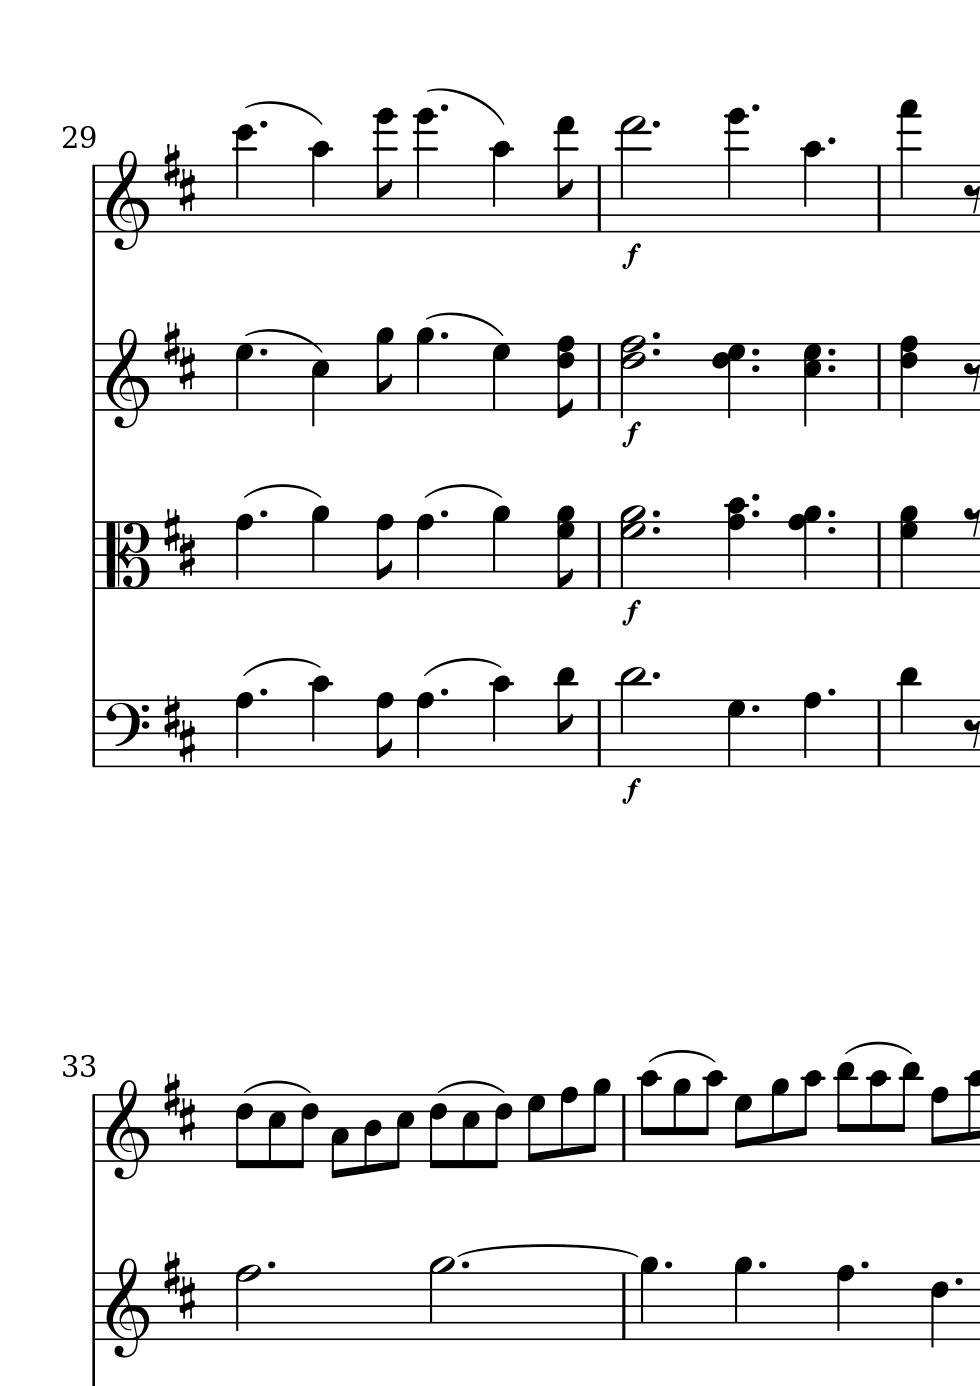2: (59, 124, 78, 151)
2_11: (616, 666, 646, 770)
2_13: (617, 115, 648, 235)
2_6_8: (618, 333, 645, 420)
2_7_9: (618, 504, 647, 591)
2_8: (233, 1263, 260, 1343)
2_9: (427, 1256, 454, 1343)
3: (60, 1052, 78, 1080), (78, 1053, 97, 1080)
4_10: (487, 673, 513, 769), (307, 138, 332, 235), (488, 139, 513, 234), (799, 140, 823, 234), (307, 674, 331, 769)
4_11: (895, 665, 920, 770)
4_12: (232, 124, 257, 234)
4_13: (412, 108, 438, 234)
4_14: (725, 104, 747, 235)
4_15: (896, 99, 923, 233)
4_5: (308, 343, 330, 428)
4_5_7: (801, 341, 822, 428)
4_6: (927, 1270, 950, 1350)
4_6_8: (899, 335, 918, 421)
4_7: (490, 343, 512, 413), (233, 343, 255, 413), (725, 698, 747, 768)
4_7_9: (898, 504, 918, 590)
4_8: (800, 690, 824, 770), (833, 1263, 856, 1343), (413, 512, 436, 591), (231, 690, 255, 769), (231, 512, 253, 591), (414, 691, 436, 770)
4_8_10: (724, 495, 748, 590)
4_8_9: (787, 504, 823, 592)
4_9: (413, 326, 436, 413), (308, 503, 330, 591), (489, 503, 511, 591), (731, 1255, 753, 1341), (638, 1255, 659, 1343)
8_10: (698, 1069, 727, 1164), (797, 1069, 823, 1164), (636, 1070, 661, 1164), (867, 1068, 890, 1162), (965, 1068, 979, 1166)
8_11: (894, 1062, 921, 1163), (833, 1062, 857, 1163), (554, 666, 577, 769)
8_13: (553, 117, 577, 233)
8_14: (372, 109, 397, 236)
8_3: (328, 1093, 349, 1180)
8_4: (361, 1093, 381, 1174)
8_5: (391, 1092, 415, 1170), (459, 1092, 482, 1169), (266, 1092, 287, 1169)
8_6: (488, 1093, 513, 1170), (295, 1093, 319, 1170), (427, 1093, 447, 1170), (234, 1094, 253, 1170)
8_6_7: (711, 341, 747, 419)
8_6_8: (555, 333, 576, 420)
8_7: (526, 1092, 546, 1163), (732, 1092, 752, 1163)
8_7_9: (555, 505, 577, 592)
8_8: (557, 1085, 579, 1163), (928, 1085, 950, 1163), (373, 512, 395, 592), (373, 691, 395, 770)
8_9: (585, 1077, 611, 1164), (768, 1078, 789, 1164), (670, 1078, 692, 1163), (374, 327, 395, 413)
9: (78, 123, 97, 151)
Cclef: (103, 519, 150, 590)
D_S: (161, 505, 198, 578), (161, 1247, 198, 1320), (161, 318, 197, 391), (161, 692, 198, 764), (161, 1071, 197, 1143), (162, 140, 197, 213)
Fclef: (103, 698, 148, 770)
Gclef: (105, 148, 148, 251), (106, 1255, 148, 1359), (105, 326, 147, 429), (106, 1075, 147, 1180)
Rests8: (960, 717, 980, 750), (961, 359, 980, 393), (961, 505, 980, 539), (960, 182, 980, 214)
Single_barline: (871, 522, 889, 587), (870, 700, 888, 766), (615, 1274, 633, 1338), (85, 522, 102, 590), (871, 343, 888, 409), (86, 343, 102, 411), (86, 165, 102, 233), (86, 700, 102, 767), (591, 522, 607, 587), (871, 166, 887, 230), (591, 701, 607, 765), (86, 1273, 101, 1340), (591, 344, 606, 410), (86, 1095, 101, 1162), (616, 1095, 631, 1161), (592, 166, 606, 230)
Slur: (427, 85, 505, 125), (424, 310, 508, 336), (246, 100, 323, 127), (242, 328, 323, 353)
dot: (458, 1243, 638, 1260), (423, 656, 500, 676), (244, 483, 320, 498), (245, 657, 320, 673), (425, 484, 503, 498), (646, 1049, 719, 1064), (436, 1078, 503, 1094), (845, 1041, 914, 1056), (243, 1080, 311, 1094), (951, 1274, 966, 1289), (256, 345, 269, 359), (256, 118, 269, 131), (648, 329, 662, 343), (648, 345, 662, 358), (754, 1258, 768, 1271), (749, 345, 762, 359), (748, 102, 762, 115), (825, 362, 838, 375), (748, 507, 762, 520), (824, 523, 838, 536), (649, 669, 662, 683), (660, 1259, 673, 1271), (857, 1259, 871, 1271), (437, 102, 450, 115), (824, 136, 837, 148), (257, 507, 269, 520), (649, 523, 662, 536), (257, 685, 269, 698), (748, 702, 760, 715), (650, 118, 662, 131), (438, 328, 450, 341), (823, 687, 837, 699), (825, 345, 837, 357), (748, 492, 760, 504), (438, 507, 450, 520), (264, 1259, 276, 1271), (458, 1259, 470, 1271), (750, 362, 762, 374), (438, 685, 449, 699), (649, 507, 661, 519), (825, 507, 837, 517)
f: (616, 241, 644, 273), (618, 776, 643, 806), (620, 420, 644, 450), (619, 598, 643, 628)
